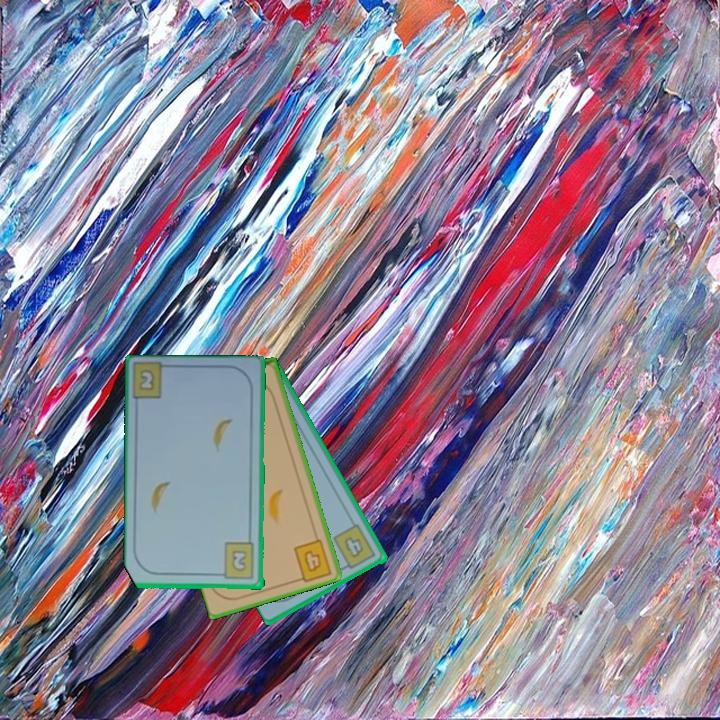2b: (215, 540, 257, 582), (136, 366, 157, 394)
4b: (330, 521, 379, 573), (290, 535, 335, 585)
